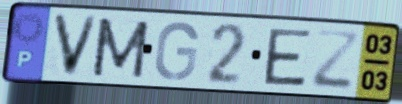2: (207, 21, 248, 87)
E: (263, 26, 314, 89)
G: (152, 20, 201, 83)
M: (89, 16, 153, 81)
V: (50, 11, 102, 80)
Z: (309, 27, 362, 92)
